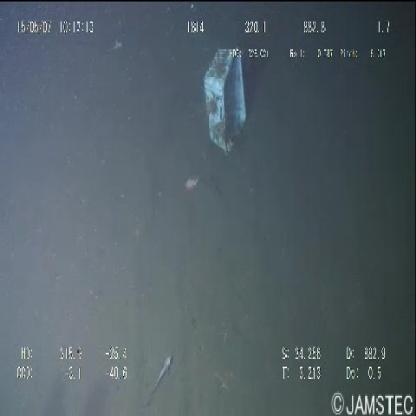Rác: (198, 40, 252, 162)
